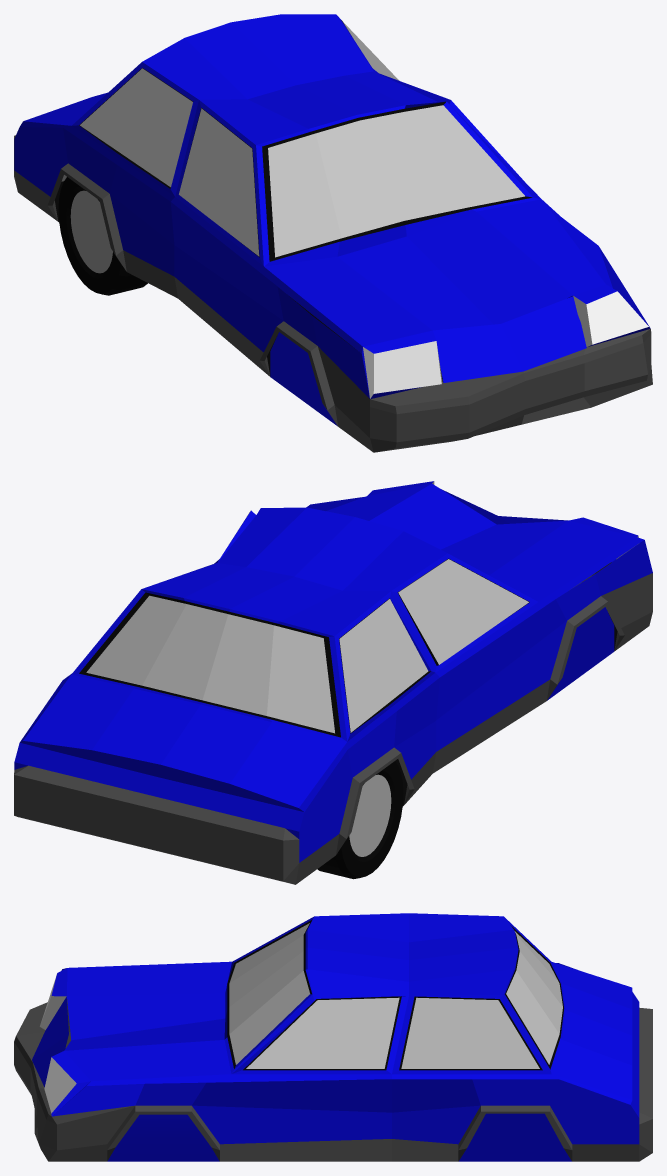
File: Carrosparaelhuayco.fbx
3 views of the same model, one above another, from view 1: azimuth 30°, elevation 25°; view 2: azimuth 150°, elevation 25°; view 3: azimuth 270°, elevation 25° (orthographic). The views are drawn at different scales.
Visible parts, largest first — view 1: polySurface7; view 2: polySurface7; view 3: polySurface7.
Boxes of the visible parts, x1=… form: polySurface7: x1=14, y1=14, x2=652, y2=452; polySurface7: x1=14, y1=481, x2=652, y2=884; polySurface7: x1=14, y1=913, x2=652, y2=1161.
Size of the model in its own units: 210 by 156 by 465.
